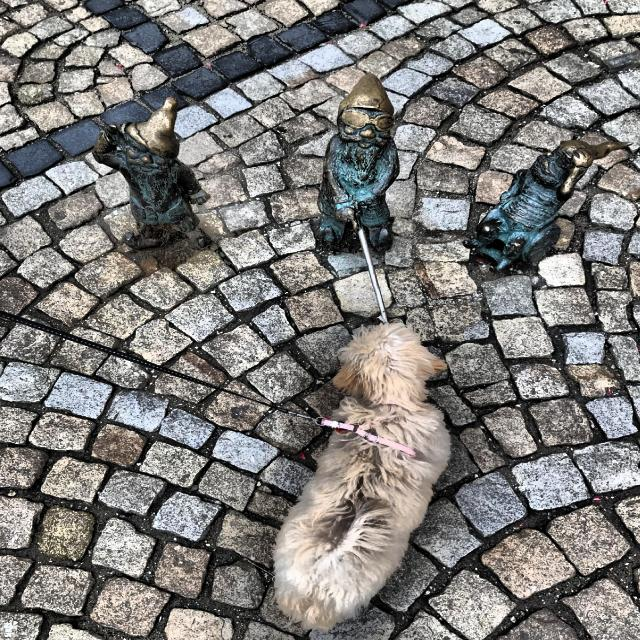Gluchak: (91, 96, 213, 250)
Slepak: (316, 73, 401, 323)
W-Skers: (462, 140, 629, 273)
